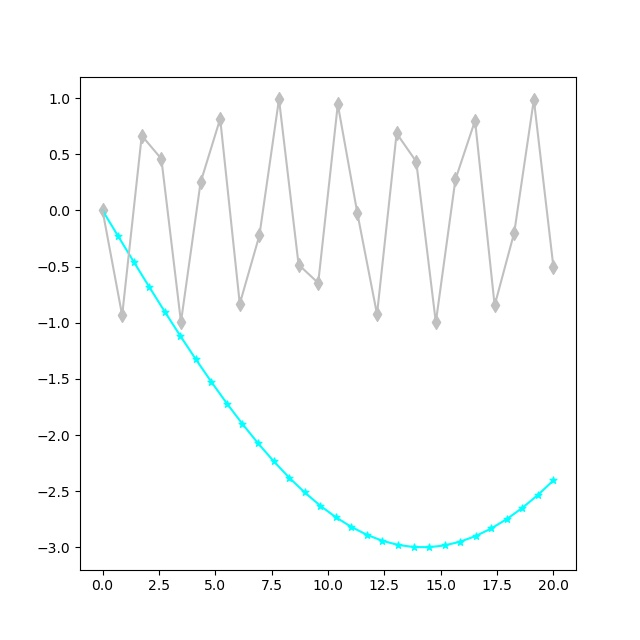star: (98, 206, 108, 216), (114, 232, 124, 242), (129, 257, 139, 267), (145, 282, 155, 292), (160, 307, 170, 317), (176, 331, 186, 341), (191, 355, 201, 365), (207, 377, 217, 387), (222, 399, 232, 409), (238, 420, 248, 430), (254, 439, 264, 449), (269, 457, 279, 467), (285, 473, 295, 483), (300, 488, 310, 498), (316, 501, 326, 511), (331, 513, 341, 523), (347, 522, 357, 532), (362, 530, 372, 540), (378, 536, 388, 546), (393, 540, 403, 550), (409, 543, 419, 553), (425, 543, 435, 553), (440, 541, 450, 551), (456, 537, 466, 547), (471, 532, 481, 542), (487, 524, 497, 534), (502, 515, 512, 525), (518, 503, 528, 513), (533, 490, 543, 500), (549, 476, 559, 486)
thin_diamond: (97, 205, 109, 217), (117, 310, 129, 322), (136, 130, 148, 142), (156, 153, 168, 165), (175, 317, 187, 329), (195, 177, 207, 189), (215, 113, 227, 125), (234, 298, 246, 310), (254, 230, 266, 242), (273, 94, 285, 106), (293, 259, 305, 271), (313, 277, 325, 289), (332, 99, 344, 111), (352, 208, 364, 220), (372, 309, 384, 321), (391, 128, 403, 140), (411, 156, 423, 168), (430, 317, 442, 329), (450, 174, 462, 186), (470, 115, 482, 127), (489, 300, 501, 312), (509, 227, 521, 239), (528, 94, 540, 106), (548, 262, 560, 274)
